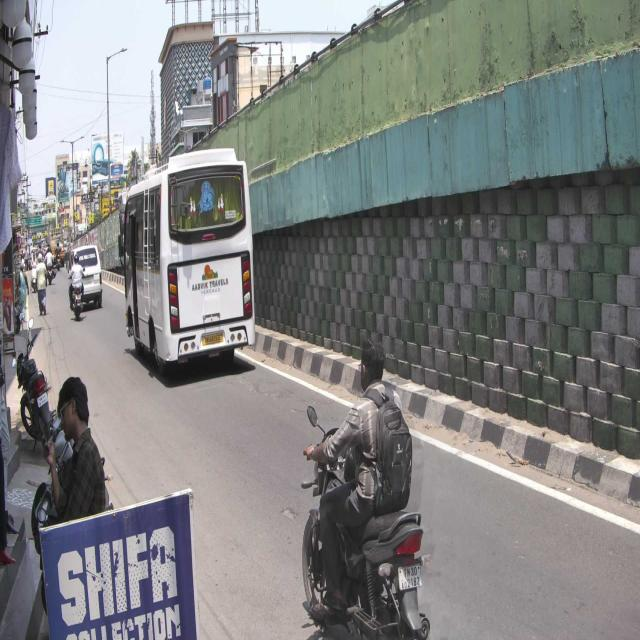single_rider: (300, 335, 430, 640)
